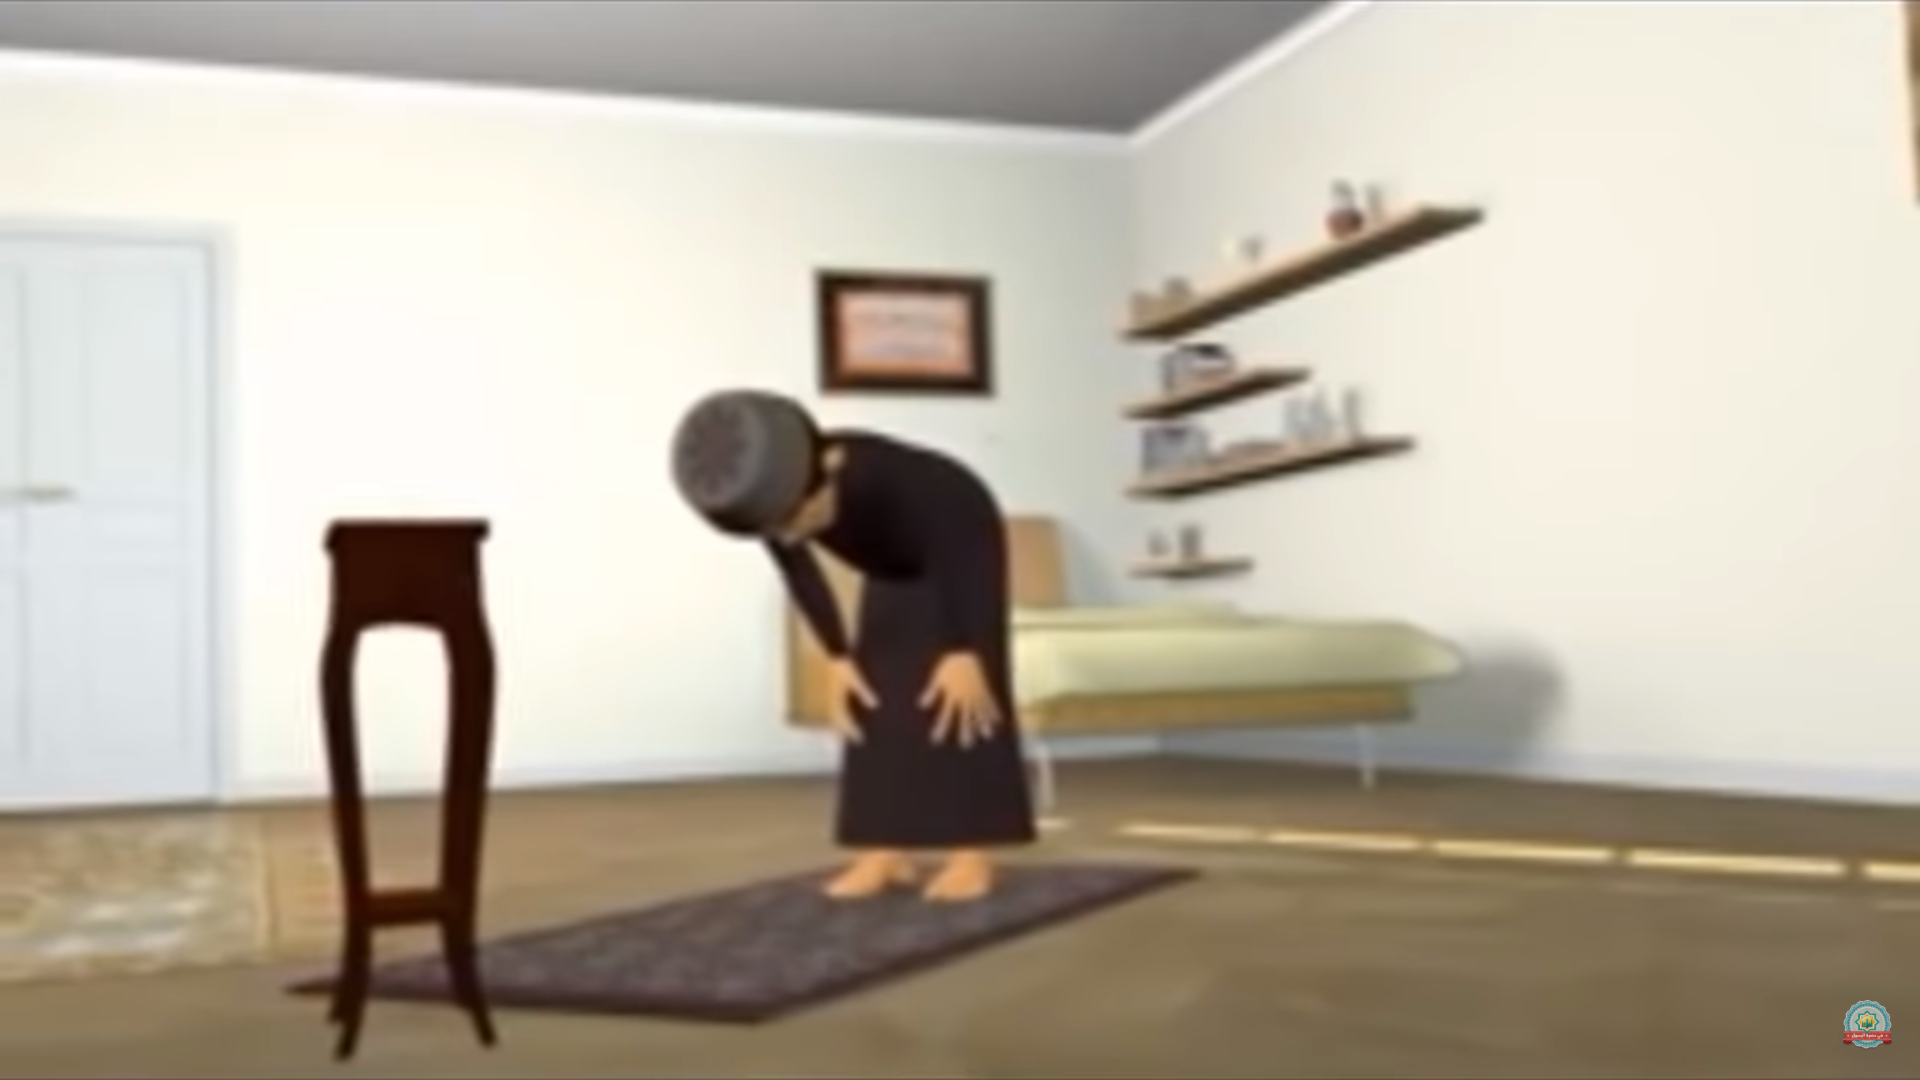ruku: (527, 281, 1130, 978)
